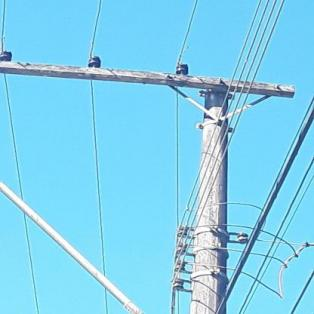Poste: (174, 71, 247, 314)
